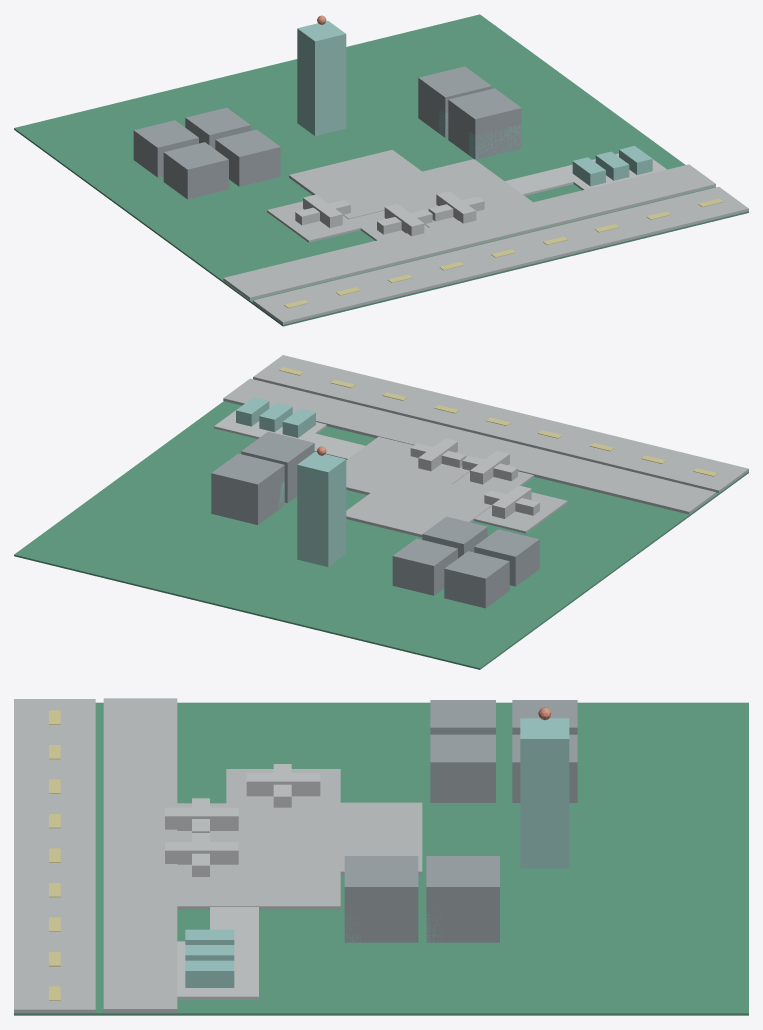
Rendered from stage_15.glb.
3 views of the same model, one above another, from view 1: azimuth 30°, elevation 25°; view 2: azimuth 150°, elevation 25°; view 3: azimuth 270°, elevation 25° (orthographic). The views are drawn at different scales.
Parts seen in each view (by area): view 1: geometry_0; view 2: geometry_0; view 3: geometry_0.
Part boxes in pixels (left/top/right/bottom): geometry_0: left=14, top=14, right=748, bottom=326; geometry_0: left=14, top=355, right=748, bottom=669; geometry_0: left=14, top=698, right=748, bottom=1015.
Bounding box in the file's own units: 9 × 2.06 × 9.
